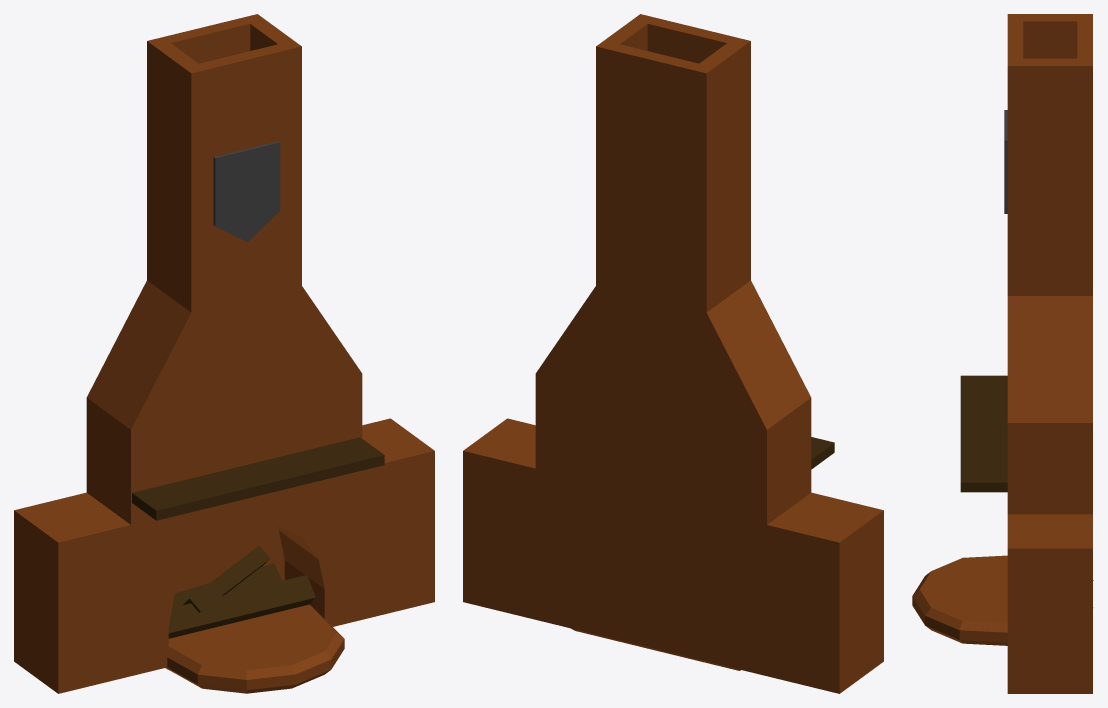
The model's file is Fire Place.glb.
3 views of the same model, side by side, from view 1: azimuth 30°, elevation 25°; view 2: azimuth 150°, elevation 25°; view 3: azimuth 270°, elevation 25° (orthographic). The views are drawn at different scales.
Visible parts, largest first — view 1: FirePlace; view 2: FirePlace; view 3: FirePlace.
Boxes of the visible parts, box(x1,y1,x2,y2) form: FirePlace: box(14, 14, 434, 693); FirePlace: box(463, 14, 883, 693); FirePlace: box(912, 14, 1093, 693).
Size of the model in its own units: 4.31 by 6.5 by 1.86.
